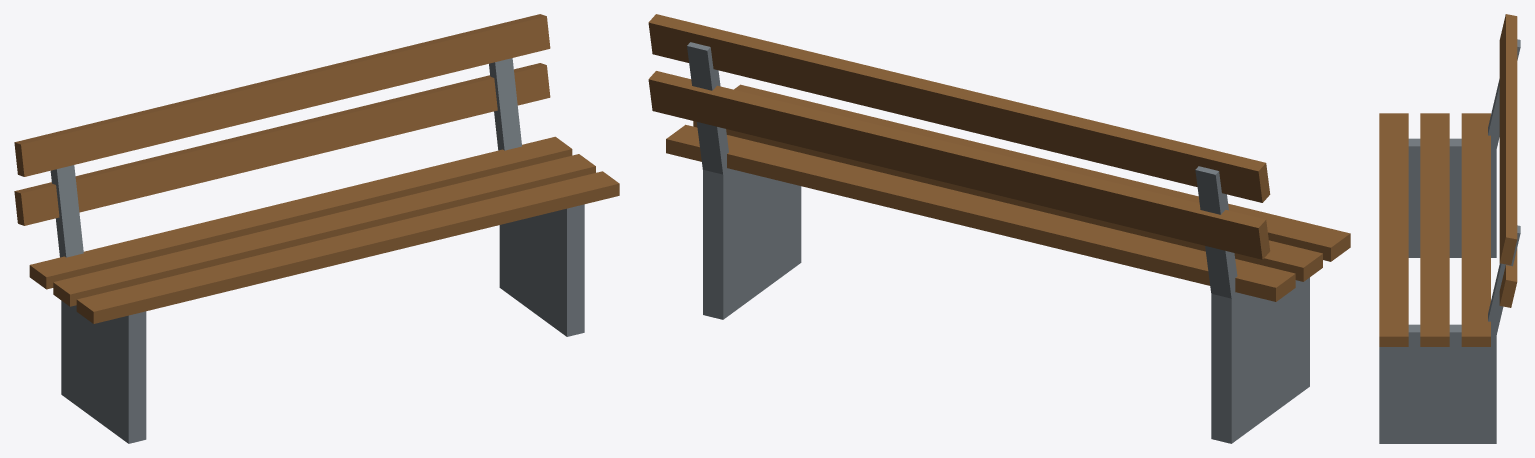
The model's file is Bench.fbx.
3 views of the same model, side by side, from view 1: azimuth 30°, elevation 25°; view 2: azimuth 150°, elevation 25°; view 3: azimuth 270°, elevation 25° (orthographic). The views are drawn at different scales.
Parts seen in each view (by area): view 1: Bench; view 2: Bench; view 3: Bench.
Boxes of the visible parts, x1,y1,x2,y2 form: Bench: [14, 14, 619, 443]; Bench: [648, 14, 1350, 443]; Bench: [1379, 14, 1520, 443].
Size of the model in its own units: 1.8 by 0.8331 by 0.4811.
